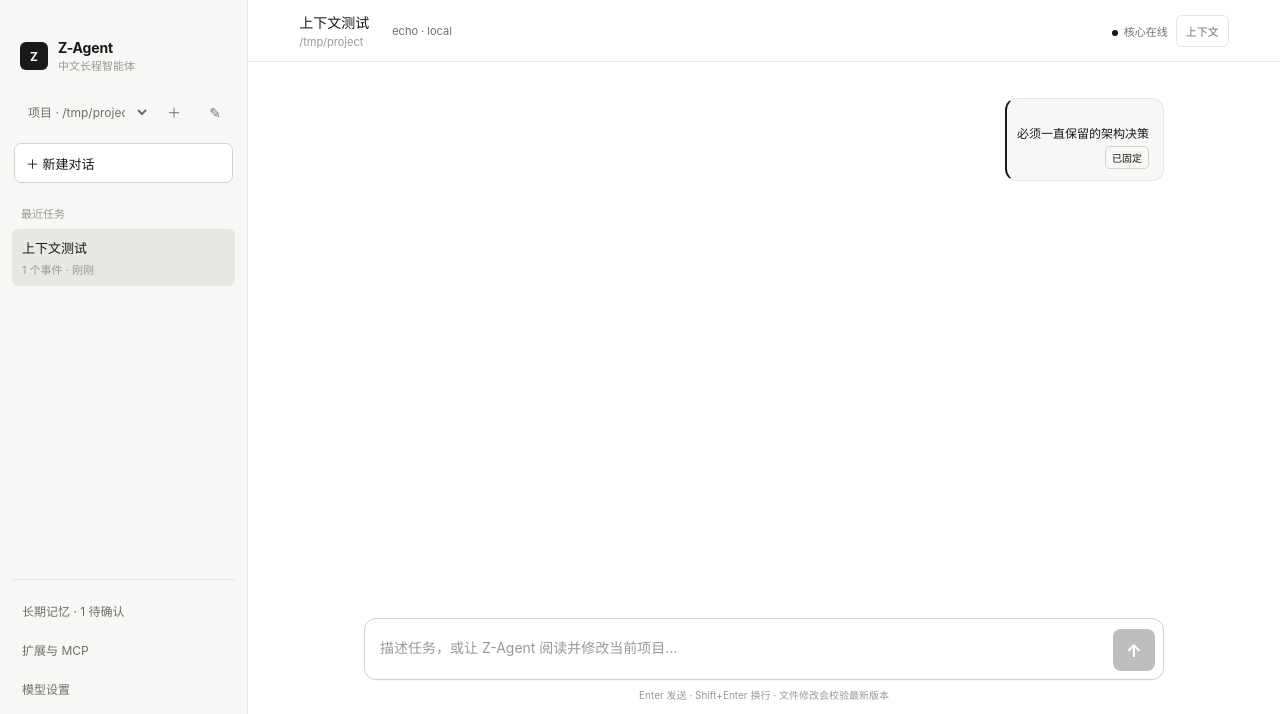
Test: Z-Agent desktop UI › explains pinned evidence separately from the recent working-set preview
Expected: the button "长期记忆 · 1 待确认" is shown, x1=12 y1=592 x2=235 y2=628
Click the button with aria-label "切换上下文检查器".
click(1202, 30)  # box x1=1176 y1=14 x2=1229 y2=46
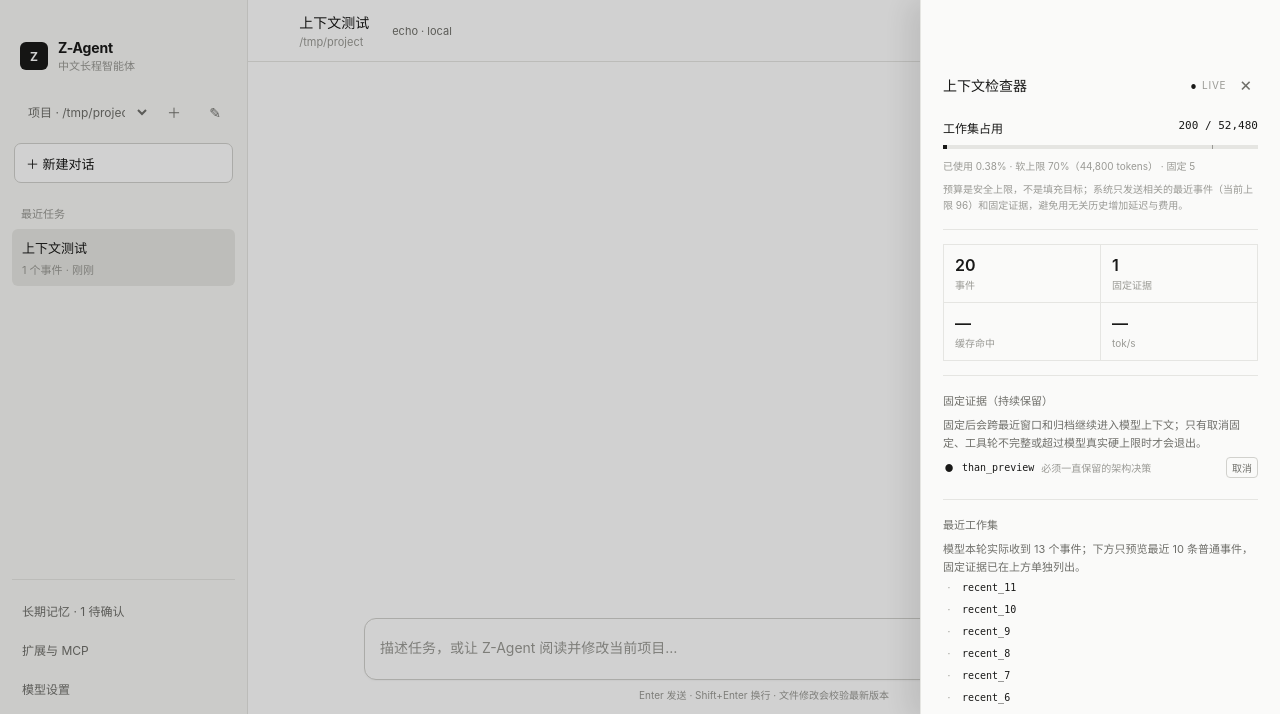
Expected: the heading "固定证据（持续保留）" is shown, x1=943 y1=394 x2=1053 y2=408
Expected: the text "模型本轮实际收到 13 个事件；下方只预览最近 10 条普通事件，固定证据已在上方单独列出。" is shown, x1=943 y1=541 x2=1258 y2=576
Expected: the text "预算是安全上限，不是填充目标；系统只发送相关的最近事件（当前上限 96）和固定证据，避免用无关历史增加延迟与费用。" is shown, x1=943 y1=182 x2=1258 y2=213
